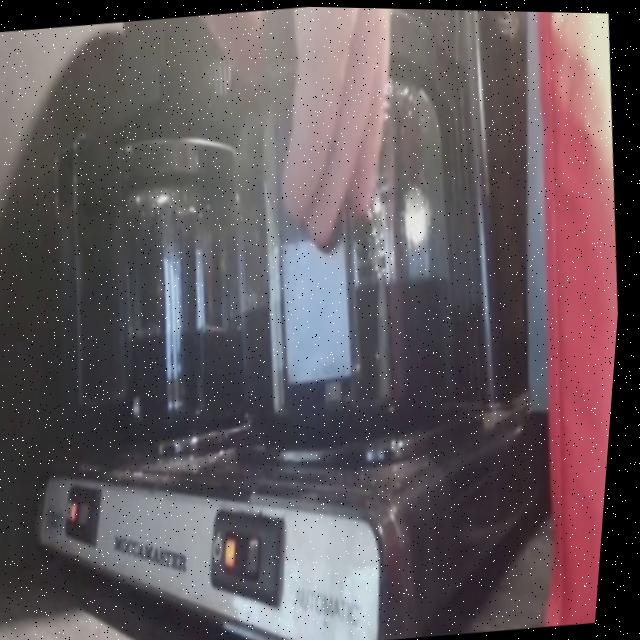coffee: (234, 230, 474, 440), (77, 202, 271, 432)
